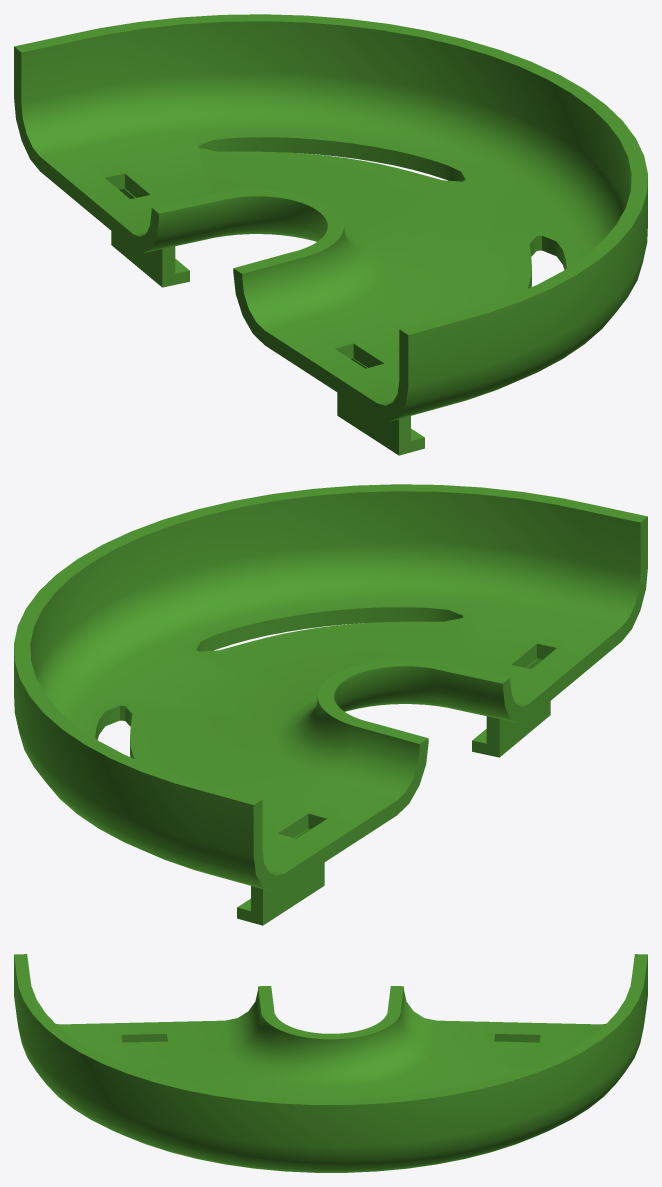
3 views of the same model, one above another, from view 1: azimuth 30°, elevation 25°; view 2: azimuth 150°, elevation 25°; view 3: azimuth 270°, elevation 25° (orthographic). The views are drawn at different scales.
Visible parts, largest first — view 1: T-05; view 2: T-05; view 3: T-05.
Part boxes in pixels (bbox=[...]): T-05: bbox=[14, 14, 647, 455]; T-05: bbox=[14, 484, 647, 925]; T-05: bbox=[14, 954, 647, 1172].
Bounding box in the file's own units: 0.0449 × 0.0183 × 0.0768.
